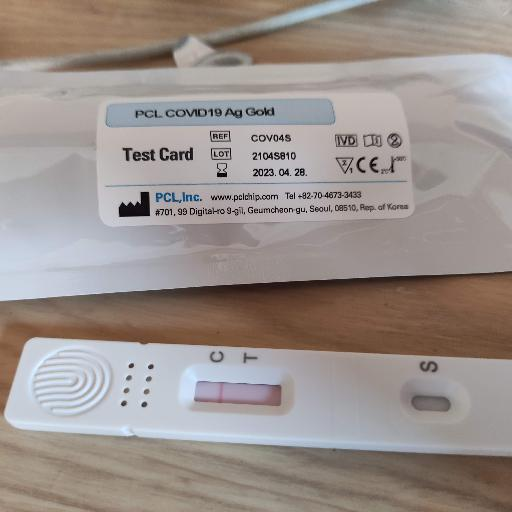Neg: (3, 337, 503, 451)
